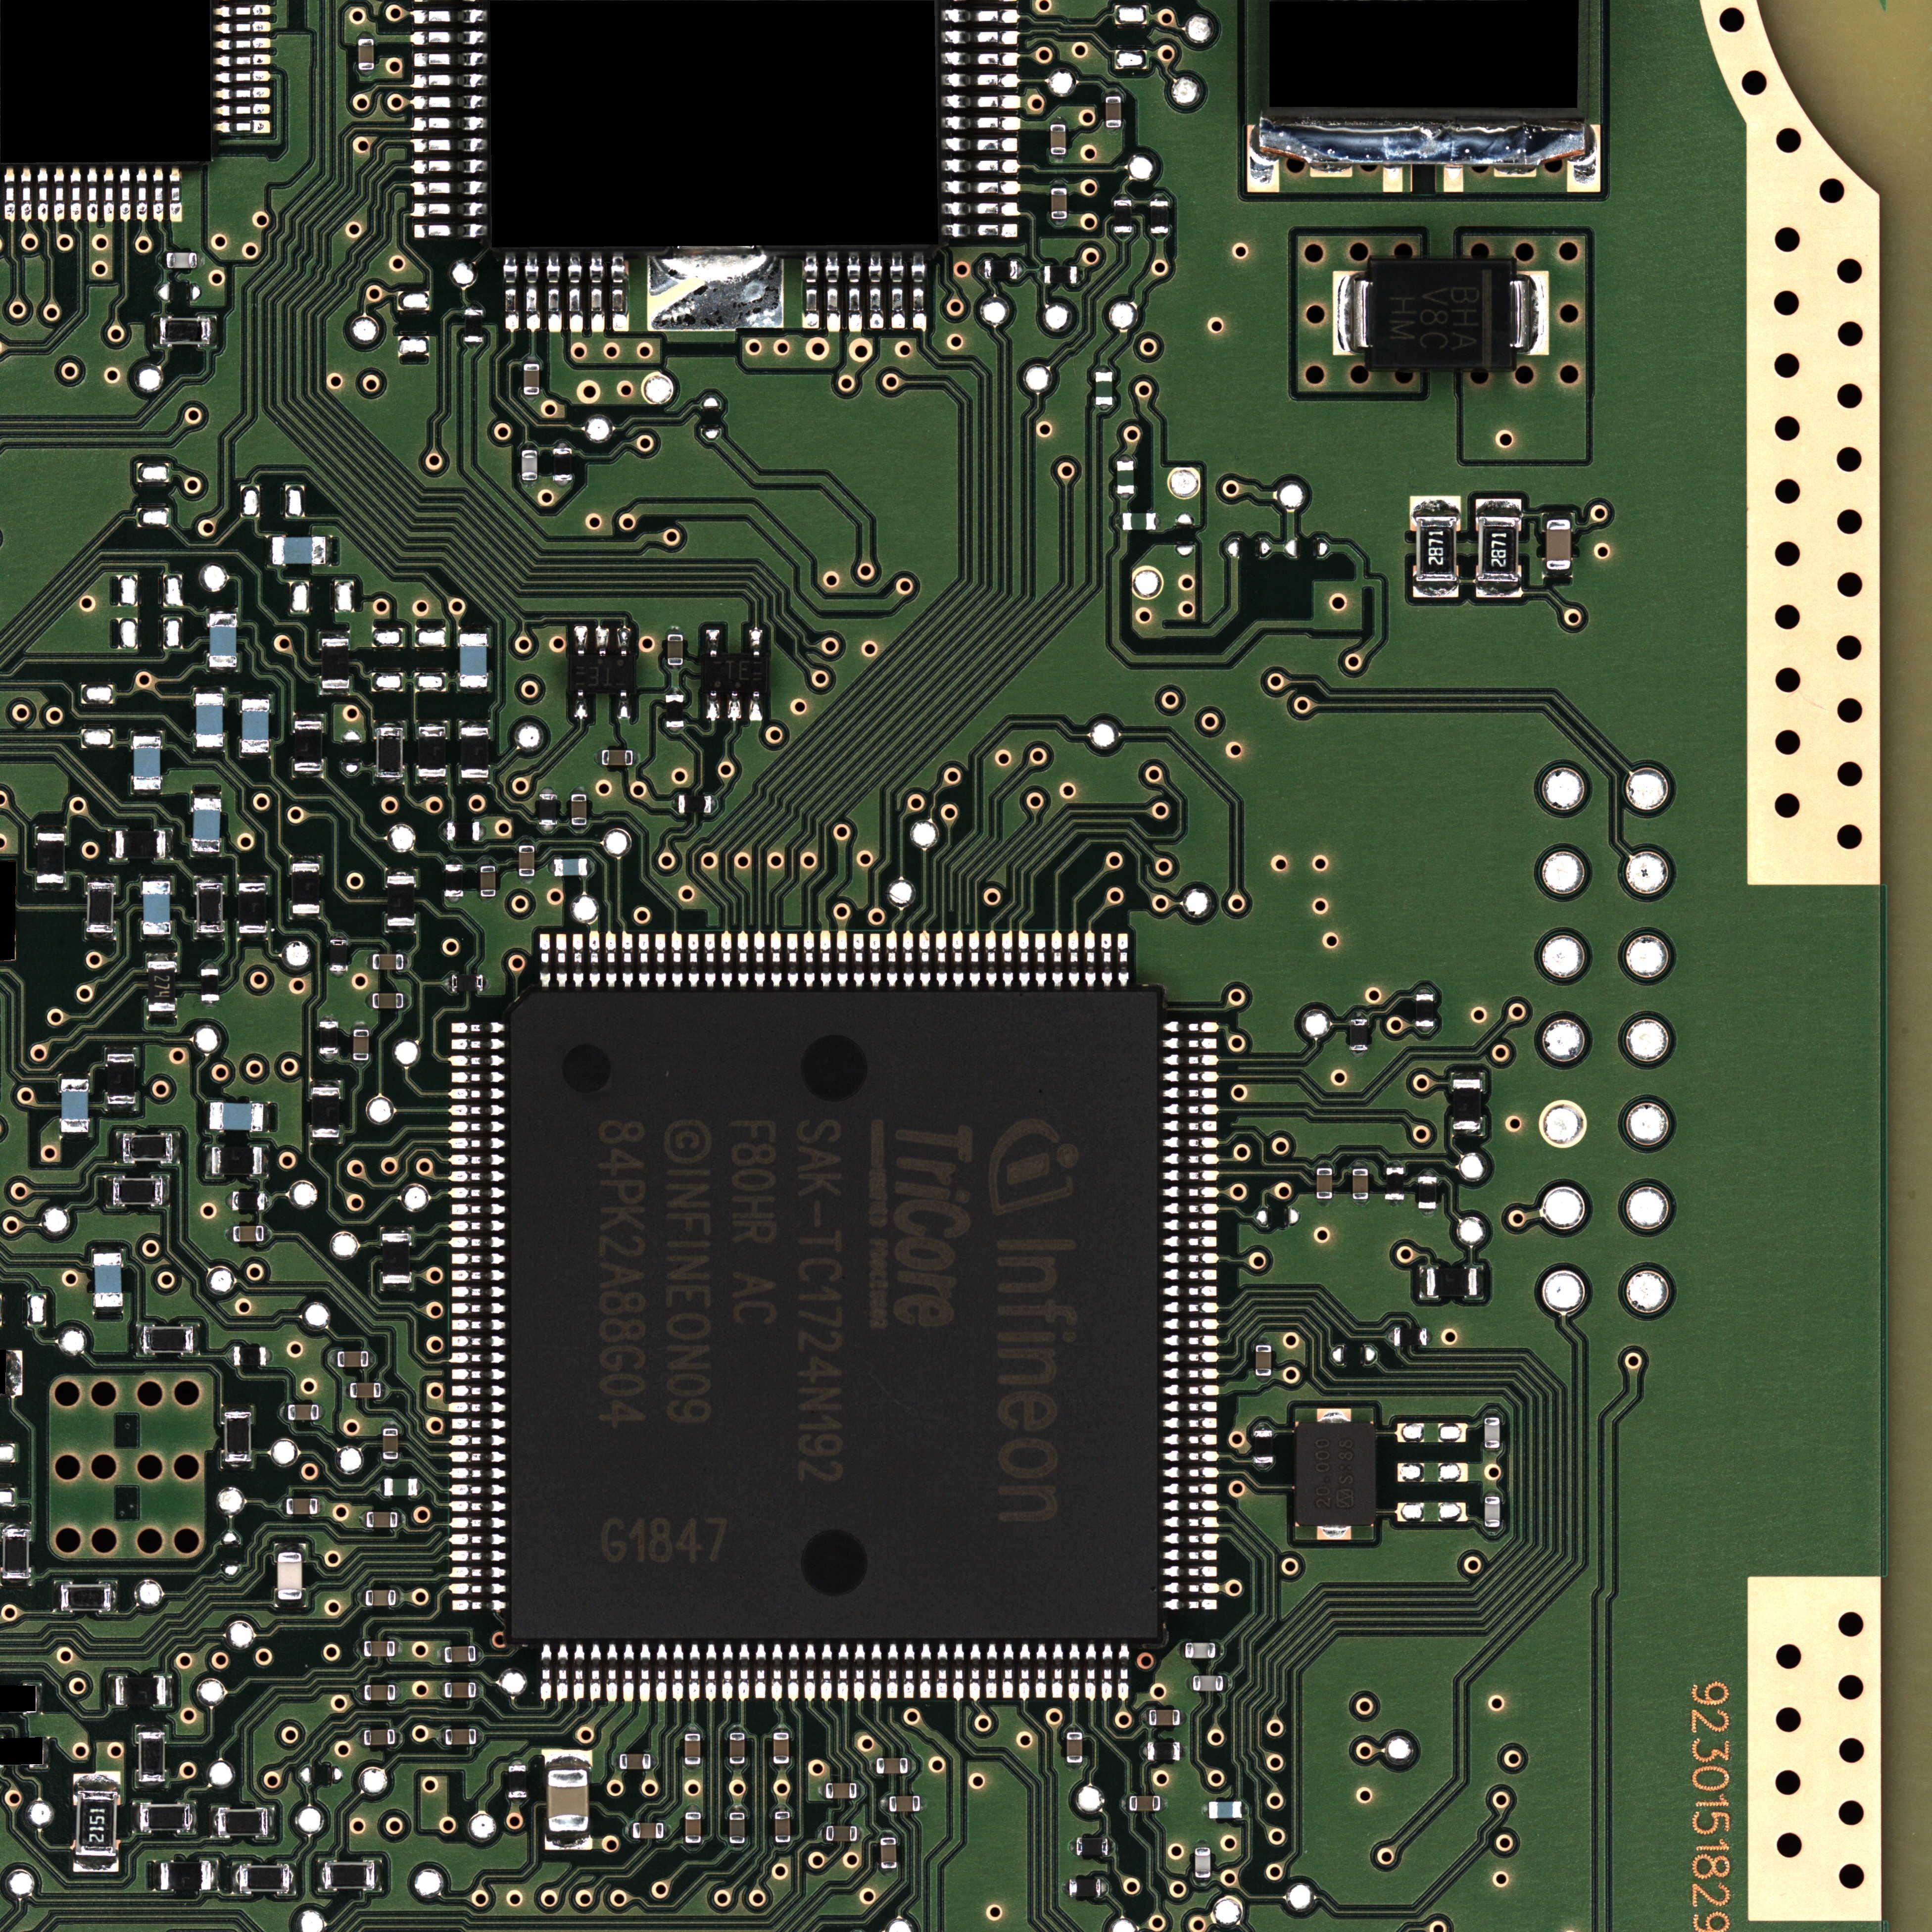Package: (510, 989, 1159, 1638), (1373, 262, 1509, 366), (1299, 1424, 1373, 1523), (76, 1790, 117, 1856), (1415, 517, 1456, 582), (1477, 517, 1518, 582), (547, 1769, 587, 1831), (702, 656, 768, 692), (571, 656, 633, 688), (1426, 1267, 1477, 1297), (133, 736, 161, 789), (193, 798, 221, 851), (209, 614, 237, 667), (94, 1254, 122, 1307), (211, 1102, 264, 1131), (460, 727, 488, 778), (115, 1677, 166, 1706), (460, 633, 487, 686), (272, 538, 326, 564), (143, 881, 170, 934), (242, 699, 269, 752), (196, 694, 223, 747), (62, 1079, 88, 1132), (147, 961, 175, 1010), (294, 722, 322, 771), (292, 863, 320, 913), (418, 727, 446, 777), (161, 1861, 211, 1890), (311, 1088, 340, 1138), (212, 1146, 262, 1175), (382, 1233, 410, 1283), (1453, 1079, 1481, 1129), (115, 832, 166, 858), (37, 833, 64, 883), (87, 883, 113, 932), (196, 883, 223, 932), (387, 876, 414, 925), (322, 639, 349, 688), (239, 883, 265, 932), (113, 1178, 163, 1205), (108, 1054, 134, 1104), (122, 1134, 172, 1161), (140, 1805, 189, 1831), (241, 1865, 288, 1891), (159, 318, 209, 343), (377, 727, 402, 777), (143, 1327, 193, 1352), (218, 1810, 267, 1835), (140, 1732, 165, 1782), (225, 1412, 249, 1461), (4, 1529, 28, 1578), (1546, 520, 1571, 570), (326, 1863, 373, 1888), (62, 1585, 110, 1610), (278, 1552, 303, 1599), (984, 260, 1017, 280), (200, 970, 219, 1001), (234, 1346, 265, 1366), (508, 1766, 527, 1798), (1415, 994, 1435, 1026), (1385, 1168, 1405, 1200), (554, 858, 587, 876), (384, 1477, 418, 1495), (232, 1192, 265, 1210), (320, 1021, 338, 1054), (1122, 513, 1155, 531), (1044, 265, 1077, 283), (1095, 372, 1113, 405), (1208, 1801, 1242, 1819), (1254, 1430, 1272, 1463), (538, 794, 557, 824), (679, 796, 711, 814), (329, 939, 347, 971), (665, 695, 683, 727), (554, 448, 571, 479), (465, 310, 483, 341), (448, 823, 479, 840), (1150, 202, 1168, 234), (1115, 200, 1132, 232), (1116, 462, 1134, 494), (1350, 1019, 1368, 1051), (1419, 1177, 1437, 1208), (1069, 1879, 1100, 1897), (1394, 1329, 1426, 1346), (1148, 1743, 1180, 1760), (1076, 1838, 1108, 1856), (446, 865, 462, 897), (382, 1428, 398, 1460), (619, 1753, 651, 1769), (444, 1683, 476, 1698), (773, 1732, 789, 1764), (685, 1812, 701, 1844), (366, 1511, 398, 1527), (729, 1812, 745, 1844), (729, 1732, 745, 1764), (444, 1645, 476, 1661), (1051, 188, 1067, 219), (1129, 1796, 1161, 1812), (1256, 1345, 1272, 1376), (1148, 1709, 1180, 1725), (518, 846, 534, 876), (357, 39, 373, 69), (571, 794, 587, 824), (522, 449, 538, 479), (524, 364, 540, 395), (667, 635, 683, 665), (373, 954, 403, 970), (373, 993, 403, 1008), (338, 1352, 368, 1368), (826, 1826, 856, 1842), (288, 1405, 318, 1421), (446, 1729, 476, 1744), (350, 1382, 380, 1398), (234, 1226, 264, 1242), (826, 1783, 856, 1799), (890, 1796, 920, 1812), (364, 1684, 395, 1700), (287, 1499, 317, 1514), (775, 1812, 791, 1842), (685, 1734, 701, 1764), (364, 1640, 395, 1656), (366, 1591, 396, 1606), (633, 1822, 663, 1838), (881, 1838, 897, 1868), (1106, 97, 1122, 127), (1316, 1168, 1332, 1198), (1192, 1675, 1223, 1691), (1185, 1642, 1215, 1658), (1352, 1169, 1368, 1200), (1067, 1732, 1083, 1762), (1484, 1497, 1500, 1527), (1484, 1417, 1500, 1447), (481, 865, 495, 897), (876, 1759, 908, 1773), (1194, 1849, 1210, 1877), (602, 750, 632, 764), (166, 253, 196, 267), (364, 1730, 395, 1744), (354, 1030, 368, 1060), (1051, 124, 1065, 154)
Solder: (1256, 120, 1598, 191), (646, 257, 784, 329), (1332, 271, 1373, 356), (1509, 271, 1548, 356), (610, 251, 632, 333), (911, 253, 929, 334), (867, 251, 885, 333), (846, 251, 863, 333), (823, 251, 840, 333), (801, 251, 819, 333), (589, 251, 607, 333), (568, 251, 586, 333), (545, 251, 563, 333), (524, 251, 541, 333), (502, 251, 520, 333), (407, 94, 488, 111), (939, 9, 1021, 25), (941, 51, 1023, 67), (941, 115, 1023, 131), (941, 136, 1023, 152), (943, 157, 1024, 173), (941, 179, 1023, 195), (941, 200, 1023, 216), (943, 221, 1024, 237), (890, 253, 906, 334), (407, 202, 488, 218), (407, 180, 488, 196), (405, 117, 487, 133), (407, 51, 488, 67), (407, 9, 488, 25), (941, 30, 1021, 46), (943, 73, 1023, 88), (941, 94, 1021, 110), (407, 138, 487, 154), (407, 73, 487, 88), (409, 30, 488, 46), (410, 223, 488, 239), (409, 159, 487, 173), (1410, 495, 1461, 517), (73, 1771, 120, 1790), (545, 1750, 593, 1769), (212, 4, 272, 18), (212, 19, 272, 34), (212, 53, 272, 67), (212, 37, 272, 51), (212, 71, 272, 85), (212, 87, 272, 101), (212, 103, 272, 117), (212, 120, 272, 134), (545, 1833, 593, 1851), (1476, 499, 1522, 517), (5, 1350, 23, 1396), (103, 166, 117, 223), (85, 166, 99, 223), (19, 166, 34, 223), (51, 166, 65, 223), (69, 166, 83, 223), (451, 1384, 506, 1398), (168, 166, 182, 221), (134, 166, 149, 221), (1412, 582, 1460, 598), (1476, 582, 1522, 598), (623, 1644, 635, 1702), (821, 1644, 833, 1702), (639, 1644, 651, 1702), (672, 1644, 685, 1702), (449, 1219, 506, 1231), (449, 1187, 506, 1200), (449, 1169, 506, 1182), (449, 1401, 506, 1414), (449, 1154, 506, 1166), (449, 1138, 506, 1150), (449, 1451, 506, 1463), (449, 1550, 506, 1562), (449, 1534, 506, 1546), (902, 931, 915, 987), (605, 931, 617, 987), (819, 931, 832, 987), (803, 931, 816, 987), (754, 931, 766, 987), (540, 1644, 552, 1700), (886, 1644, 899, 1700), (837, 1644, 849, 1700), (573, 1644, 586, 1700), (589, 1644, 602, 1700), (688, 1644, 701, 1700), (787, 1644, 800, 1700), (738, 1644, 750, 1700), (1001, 931, 1014, 987), (1085, 931, 1097, 987), (1051, 931, 1063, 987), (1162, 1318, 1219, 1330), (1162, 1169, 1219, 1182), (1162, 1334, 1219, 1346), (1162, 1368, 1219, 1380), (1162, 1384, 1219, 1396), (1162, 1154, 1219, 1166), (1162, 1021, 1219, 1033), (1085, 1644, 1097, 1700), (1118, 1644, 1131, 1700), (152, 166, 165, 223), (4, 166, 16, 223), (37, 166, 50, 223), (451, 1088, 506, 1100), (451, 1286, 506, 1299), (451, 1269, 506, 1281), (451, 1302, 506, 1315), (451, 1253, 506, 1265), (451, 1237, 506, 1249), (451, 1203, 506, 1215), (451, 1318, 506, 1330), (451, 1336, 506, 1348), (449, 1120, 504, 1132), (451, 1352, 506, 1364), (451, 1368, 506, 1380), (451, 1500, 506, 1513), (451, 1599, 506, 1612), (451, 1484, 506, 1497), (451, 1582, 506, 1594), (451, 1467, 506, 1479), (451, 1566, 506, 1578), (451, 1516, 506, 1529), (952, 932, 964, 987), (655, 932, 667, 987), (621, 932, 633, 987), (869, 932, 881, 987), (671, 932, 683, 987), (556, 932, 568, 987), (853, 932, 865, 987), (704, 932, 717, 987), (720, 932, 732, 987), (936, 1644, 948, 1698), (1035, 932, 1047, 987), (1100, 932, 1113, 987), (1162, 1120, 1217, 1132), (1162, 1235, 1217, 1247), (1162, 1269, 1217, 1281), (1162, 1203, 1217, 1215), (1162, 1185, 1217, 1198), (1162, 1219, 1217, 1231), (1162, 1284, 1217, 1297), (1162, 1104, 1217, 1116), (1162, 1136, 1217, 1148), (1162, 1037, 1217, 1049), (1162, 1417, 1217, 1430), (1162, 1433, 1217, 1445), (1162, 1399, 1217, 1412), (985, 1644, 998, 1698), (1162, 1598, 1217, 1610), (1162, 1582, 1217, 1594), (1035, 1644, 1047, 1698), (1162, 1566, 1217, 1578), (1051, 1644, 1063, 1698), (1162, 1483, 1217, 1495), (119, 166, 131, 221), (451, 1104, 504, 1116), (451, 1417, 504, 1430), (451, 1039, 504, 1051), (451, 1021, 504, 1033), (451, 1070, 504, 1083), (451, 1054, 504, 1067), (1164, 1086, 1217, 1099), (1164, 1070, 1217, 1083), (1164, 1516, 1217, 1529), (1164, 1532, 1217, 1545), (1164, 1467, 1217, 1479), (73, 1858, 119, 1872), (557, 1644, 568, 1702), (607, 1644, 617, 1702), (656, 1644, 667, 1702), (920, 931, 931, 987), (589, 931, 600, 987), (837, 931, 847, 987), (855, 1644, 865, 1700), (870, 1644, 881, 1700), (954, 1644, 964, 1700), (706, 1644, 717, 1700), (722, 1644, 732, 1700), (970, 1644, 980, 1700), (805, 1644, 816, 1700), (771, 1644, 782, 1700), (1019, 931, 1030, 987), (985, 931, 996, 987), (1069, 931, 1079, 987), (1162, 1352, 1219, 1362), (1019, 1644, 1030, 1700), (1102, 1644, 1113, 1700), (1069, 1644, 1079, 1700), (451, 1435, 506, 1445), (936, 932, 947, 987), (886, 932, 897, 987), (970, 932, 980, 987), (639, 932, 649, 987), (573, 932, 584, 987), (540, 932, 550, 987), (787, 932, 798, 987), (771, 932, 782, 987), (688, 932, 699, 987), (738, 932, 748, 987), (920, 1644, 931, 1698), (904, 1644, 915, 1698), (755, 1644, 766, 1698), (1162, 1253, 1217, 1263), (1162, 1302, 1217, 1313), (1162, 1054, 1217, 1065), (1162, 1451, 1217, 1461), (1003, 1644, 1014, 1698), (1162, 1550, 1217, 1560), (1118, 934, 1129, 987), (1316, 1408, 1352, 1424), (1164, 1500, 1217, 1511), (1316, 1525, 1352, 1539), (573, 690, 589, 720), (573, 625, 587, 656), (594, 626, 610, 655), (617, 690, 632, 720), (748, 692, 763, 720), (727, 692, 741, 720), (617, 626, 632, 655), (706, 692, 720, 720), (748, 628, 763, 656), (706, 630, 720, 656), (150, 315, 159, 349), (221, 1461, 253, 1470), (375, 1859, 384, 1891), (113, 1132, 122, 1162), (104, 1177, 113, 1207), (223, 1403, 253, 1412), (311, 1079, 341, 1088), (202, 1146, 211, 1177), (136, 1723, 166, 1732), (131, 1803, 140, 1833), (211, 1859, 219, 1890), (230, 1863, 239, 1893), (276, 1543, 306, 1552), (209, 1806, 218, 1836), (317, 1859, 326, 1890), (267, 1808, 276, 1838), (152, 1861, 161, 1891), (193, 1325, 202, 1353), (134, 1325, 143, 1353), (456, 686, 490, 694), (326, 534, 333, 568), (205, 667, 239, 674), (265, 534, 272, 568), (42, 1736, 50, 1769), (209, 315, 216, 347), (318, 632, 350, 639), (318, 688, 350, 695), (458, 626, 490, 633), (274, 1599, 306, 1606), (134, 1782, 166, 1789), (1419, 1267, 1426, 1299), (85, 932, 115, 939), (294, 771, 324, 778), (173, 1132, 180, 1162), (163, 1175, 170, 1205), (382, 1284, 412, 1292), (382, 1226, 412, 1233), (53, 1582, 60, 1612), (290, 1863, 297, 1893), (111, 1582, 119, 1612), (191, 1803, 198, 1833), (108, 1675, 115, 1706), (1453, 1072, 1483, 1079), (1543, 570, 1573, 577), (1543, 511, 1573, 518), (37, 826, 65, 833), (37, 885, 65, 892), (264, 1146, 271, 1175), (60, 1132, 88, 1139), (311, 1138, 340, 1145), (166, 1677, 173, 1706), (193, 688, 225, 694), (207, 609, 239, 614), (0, 1523, 32, 1529), (1477, 1267, 1483, 1299), (37, 1683, 42, 1714), (195, 876, 225, 881), (131, 731, 161, 736), (147, 955, 177, 961), (142, 874, 172, 879), (290, 858, 320, 863), (237, 878, 267, 883), (241, 754, 271, 759), (386, 927, 416, 932), (460, 722, 490, 727), (142, 934, 172, 939), (191, 793, 221, 798), (294, 715, 324, 720), (375, 722, 405, 727), (195, 748, 225, 754), (386, 870, 416, 876), (241, 694, 271, 699), (195, 932, 225, 938), (264, 1102, 269, 1132), (1453, 1131, 1483, 1136), (87, 876, 115, 881), (418, 722, 446, 727), (292, 913, 320, 918), (460, 778, 488, 784), (133, 789, 161, 794), (239, 934, 267, 939), (94, 1307, 122, 1313), (200, 1000, 221, 1007), (106, 1047, 134, 1053), (203, 1102, 209, 1131), (60, 1072, 88, 1077), (94, 1247, 122, 1253), (149, 1012, 177, 1017), (2, 1580, 30, 1585), (108, 1106, 134, 1111), (1177, 1642, 1185, 1658), (1215, 1642, 1224, 1658), (464, 341, 483, 349), (464, 303, 483, 310), (200, 961, 219, 968), (508, 1798, 527, 1805), (1150, 193, 1169, 200), (1113, 193, 1132, 200), (1077, 265, 1085, 285), (1037, 265, 1044, 285), (1017, 260, 1024, 280), (1113, 234, 1132, 241), (1150, 234, 1169, 241), (1387, 1327, 1394, 1346), (1104, 88, 1122, 96), (1415, 987, 1433, 994), (331, 971, 347, 978), (382, 1421, 398, 1428), (267, 1346, 272, 1368), (524, 357, 540, 364), (540, 826, 556, 833), (667, 727, 683, 734), (571, 826, 587, 833), (667, 688, 683, 695), (685, 1844, 701, 1851), (881, 1831, 897, 1838), (510, 1759, 525, 1766), (1051, 219, 1067, 226), (1051, 180, 1067, 188), (1256, 1338, 1272, 1345), (1194, 1877, 1210, 1884), (1484, 1410, 1500, 1417), (191, 853, 221, 856), (479, 821, 485, 840), (228, 1346, 234, 1366), (226, 1191, 232, 1210), (318, 1017, 338, 1023), (978, 260, 984, 280), (1385, 1200, 1405, 1205), (1415, 1028, 1435, 1033), (418, 778, 446, 782), (375, 778, 403, 782), (384, 1460, 398, 1467), (669, 665, 683, 672), (669, 626, 683, 633), (196, 251, 202, 269), (161, 251, 166, 269), (357, 34, 375, 39), (446, 897, 464, 902), (441, 823, 446, 840), (352, 1024, 370, 1030), (476, 1645, 481, 1663), (554, 481, 571, 487), (522, 396, 540, 402), (587, 858, 593, 876), (908, 1757, 913, 1775), (1095, 405, 1113, 410), (1116, 494, 1134, 499), (1095, 366, 1113, 372), (1049, 119, 1067, 124), (1155, 513, 1161, 531), (1350, 1051, 1368, 1056), (1419, 1210, 1437, 1215), (1428, 1329, 1433, 1346), (1254, 1424, 1272, 1430), (1254, 1463, 1272, 1468), (1065, 1764, 1083, 1769), (1070, 1838, 1076, 1856), (1180, 1743, 1185, 1760), (1180, 1709, 1185, 1727), (479, 860, 495, 865), (331, 934, 347, 939), (403, 954, 409, 970), (228, 1226, 234, 1242), (366, 993, 372, 1008), (264, 1226, 269, 1242), (352, 1060, 368, 1065), (476, 1683, 481, 1698), (476, 1729, 481, 1744), (281, 1499, 287, 1514), (359, 1684, 364, 1700), (395, 1640, 400, 1656), (359, 1640, 364, 1656), (398, 1511, 403, 1527), (359, 1730, 364, 1746), (361, 1511, 366, 1527), (522, 444, 538, 449), (522, 479, 538, 485), (540, 787, 556, 793), (548, 860, 554, 876), (596, 750, 602, 766), (773, 1764, 789, 1769), (729, 1764, 745, 1769), (685, 1729, 701, 1734), (773, 1727, 789, 1732), (775, 1842, 791, 1847), (685, 1764, 701, 1769), (775, 1806, 791, 1812), (651, 1753, 656, 1769), (729, 1844, 745, 1849), (729, 1727, 745, 1732), (729, 1806, 745, 1812), (685, 1806, 701, 1812), (920, 1796, 925, 1812), (856, 1783, 862, 1799), (881, 1868, 897, 1874), (663, 1822, 669, 1838), (628, 1822, 633, 1838), (1106, 129, 1122, 134), (1116, 513, 1122, 529), (1316, 1162, 1332, 1168), (1352, 1162, 1368, 1168), (1256, 1376, 1272, 1382), (1316, 1200, 1332, 1205), (1067, 1727, 1083, 1732), (1194, 1842, 1210, 1847), (1223, 1675, 1228, 1691), (1108, 1838, 1113, 1854), (1484, 1449, 1500, 1454), (885, 1796, 890, 1812), (821, 1783, 826, 1799), (481, 897, 495, 902), (318, 1405, 324, 1419), (520, 840, 534, 846), (571, 787, 586, 793), (1353, 1200, 1368, 1205), (265, 1192, 269, 1212), (1486, 1529, 1499, 1534), (357, 71, 375, 74), (320, 1054, 338, 1058), (554, 444, 571, 448), (674, 794, 678, 812), (1116, 456, 1134, 460), (1419, 1171, 1437, 1175), (1385, 1162, 1403, 1166), (1350, 1014, 1368, 1017), (1102, 1879, 1106, 1897), (1065, 1879, 1069, 1897), (446, 860, 462, 863), (368, 954, 372, 970), (403, 993, 407, 1008), (370, 1352, 373, 1368), (347, 1382, 350, 1398), (418, 1479, 421, 1495), (318, 1499, 322, 1514), (396, 1684, 400, 1700), (396, 1589, 400, 1605), (441, 1683, 444, 1698), (441, 1647, 444, 1663), (380, 1479, 384, 1495), (441, 1729, 444, 1744), (518, 878, 534, 881), (633, 750, 637, 766), (713, 796, 717, 812), (823, 1826, 826, 1842), (1051, 156, 1067, 159), (1242, 1801, 1246, 1817), (1189, 1675, 1192, 1691), (1161, 1796, 1164, 1812), (1125, 1796, 1129, 1812), (1143, 1743, 1146, 1759), (1145, 1709, 1148, 1725), (616, 1753, 619, 1769), (382, 1384, 386, 1398), (333, 1352, 336, 1366), (285, 1405, 288, 1419), (361, 1591, 364, 1605), (396, 1730, 400, 1744), (858, 1826, 862, 1840), (872, 1759, 876, 1773), (1205, 1803, 1208, 1817), (1484, 1491, 1499, 1495), (446, 975, 451, 982), (483, 975, 487, 982)
